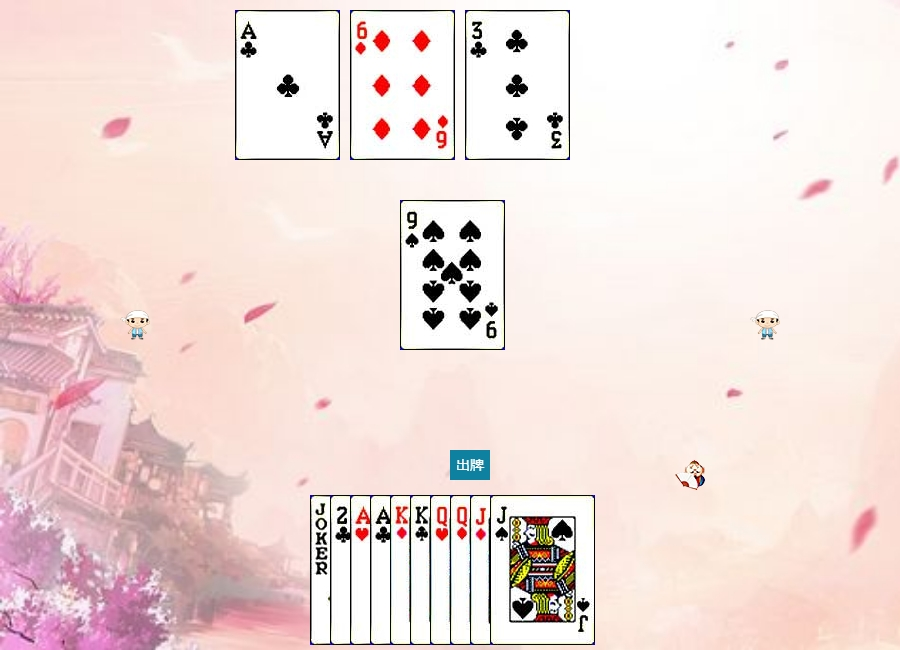11~1: (470, 495, 575, 645)
11~4: (490, 495, 595, 645)
12~1: (450, 495, 555, 645)
12~3: (430, 495, 535, 645)
13~1: (390, 495, 495, 645)
13~2: (410, 495, 515, 645)
14~2: (235, 10, 340, 160), (370, 495, 475, 645)
14~3: (350, 495, 455, 645)
15~2: (330, 495, 435, 645)
17~3: (310, 495, 415, 645)
3~2: (465, 10, 570, 160)
6~1: (350, 10, 455, 160)
9~4: (400, 200, 505, 350)
